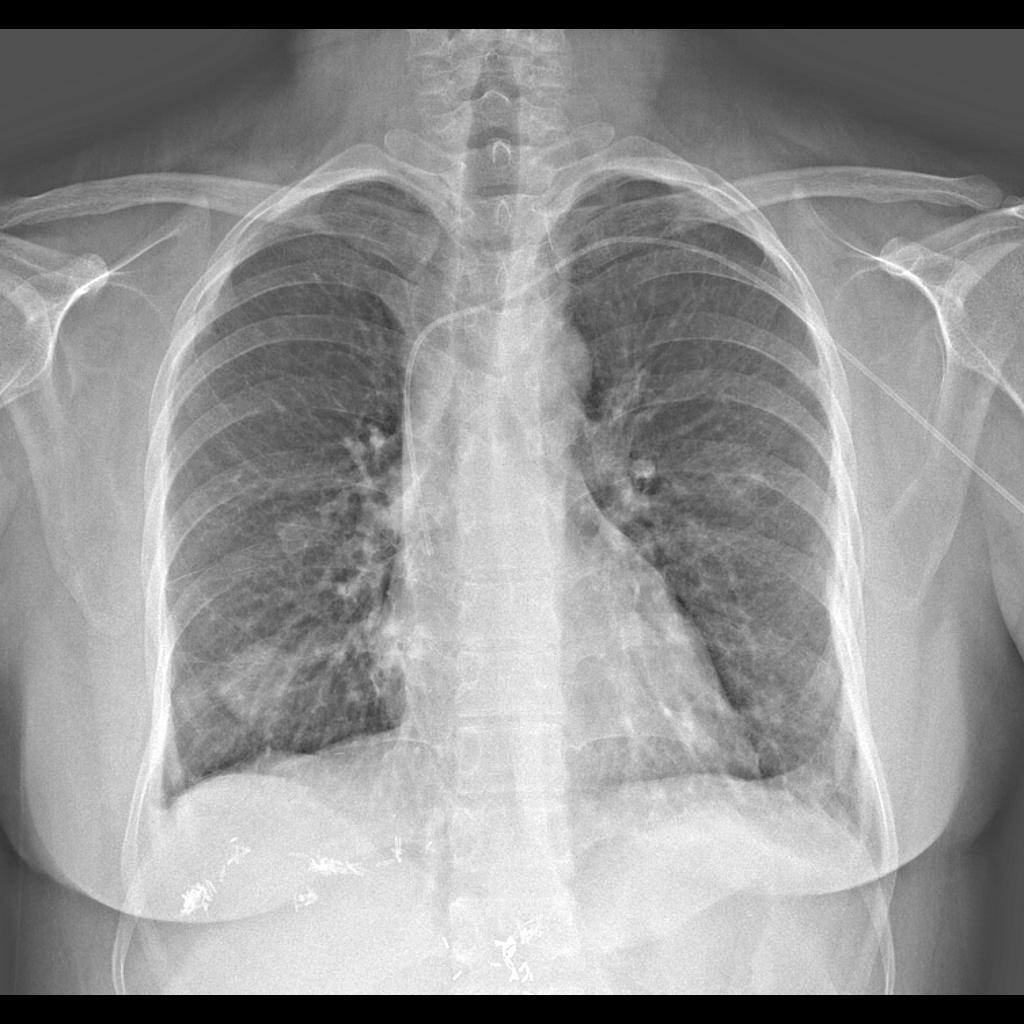Nodule: (210, 636, 320, 736), (699, 454, 767, 523), (263, 512, 331, 562)
